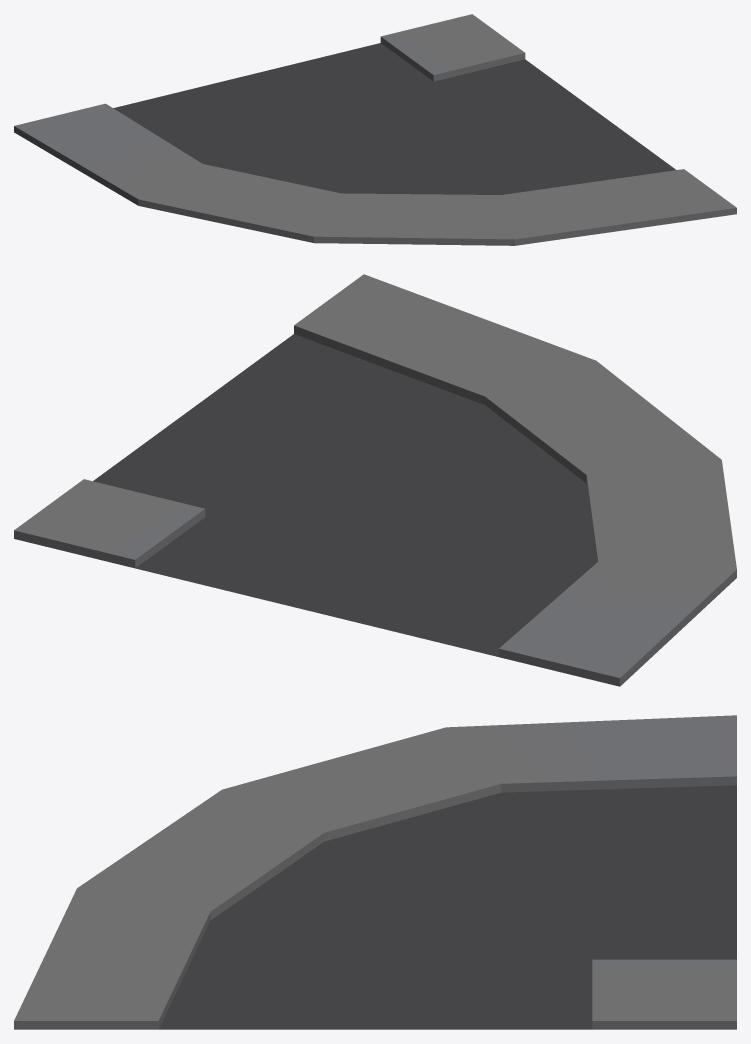
Rendered from Turn1.fbx.
The picture shows the model from 3 angles, top to bottom: view 1: azimuth 30°, elevation 25°; view 2: azimuth 150°, elevation 25°; view 3: azimuth 270°, elevation 25°; orthographic projection. The views are drawn at different scales.
Parts seen in each view (by area): view 1: Turn; view 2: Turn; view 3: Turn.
Part boxes in pixels (x1,y1,x2,y2): Turn: (14,14,736,245); Turn: (14,274,736,686); Turn: (14,715,736,1029).
Bounding box in the file's own units: 1000 × 13.49 × 1000.
